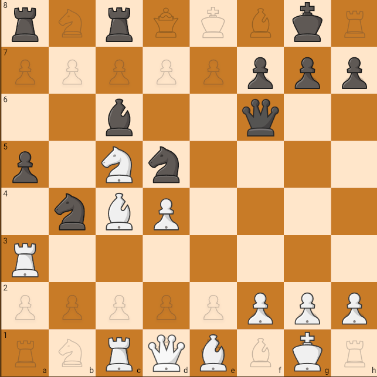bb: (147, 143, 186, 187), (98, 97, 138, 138)
bk: (287, 0, 329, 45), (242, 97, 283, 140)
bn: (51, 190, 93, 234)
bp: (334, 51, 374, 94), (240, 52, 279, 93), (7, 145, 44, 186), (291, 55, 325, 90)
br: (5, 3, 45, 45), (98, 3, 138, 44)
wb: (98, 191, 139, 233), (146, 331, 187, 372), (195, 332, 230, 372)
wk: (289, 331, 326, 374)
wn: (97, 145, 141, 187)
wp: (147, 193, 187, 234), (288, 290, 326, 326), (243, 289, 278, 326), (338, 289, 369, 327)
wr: (3, 238, 45, 281), (99, 331, 138, 374)
